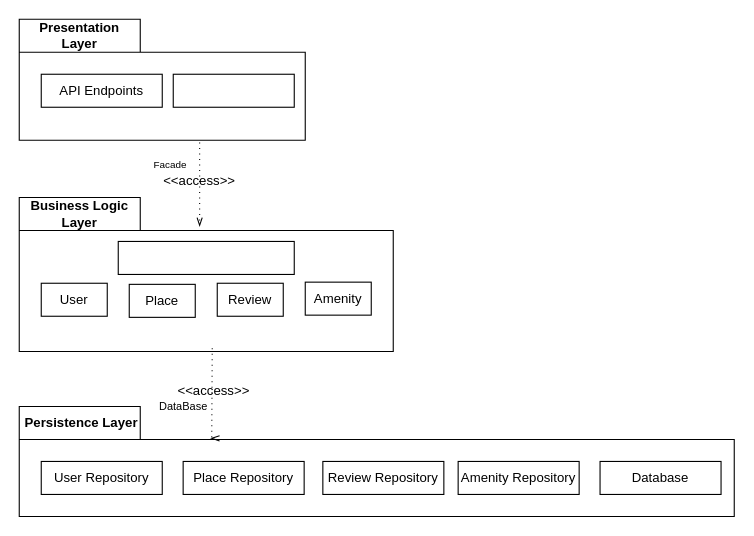
The diagram is 754 pixels wide and 536 high, and some of its shapes have lost their labels. Each missing label, with the centre of its shape:
HBnB Facade: the point at 205,257
Services: the point at 233,90
